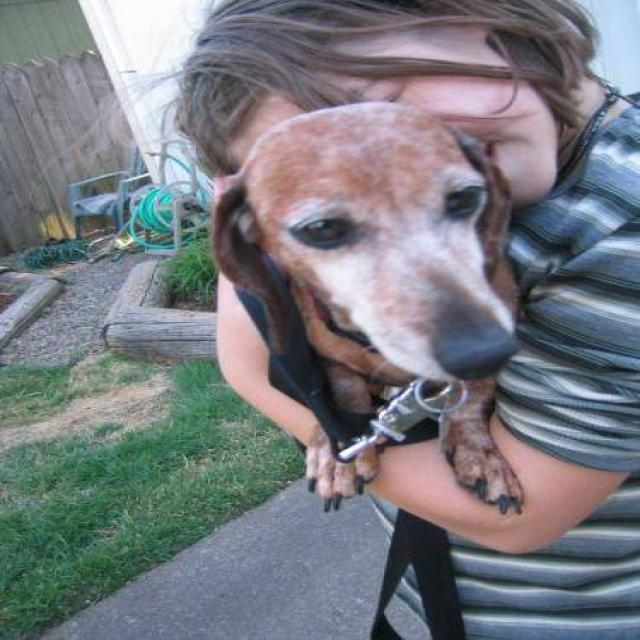dog: (208, 99, 528, 518)
